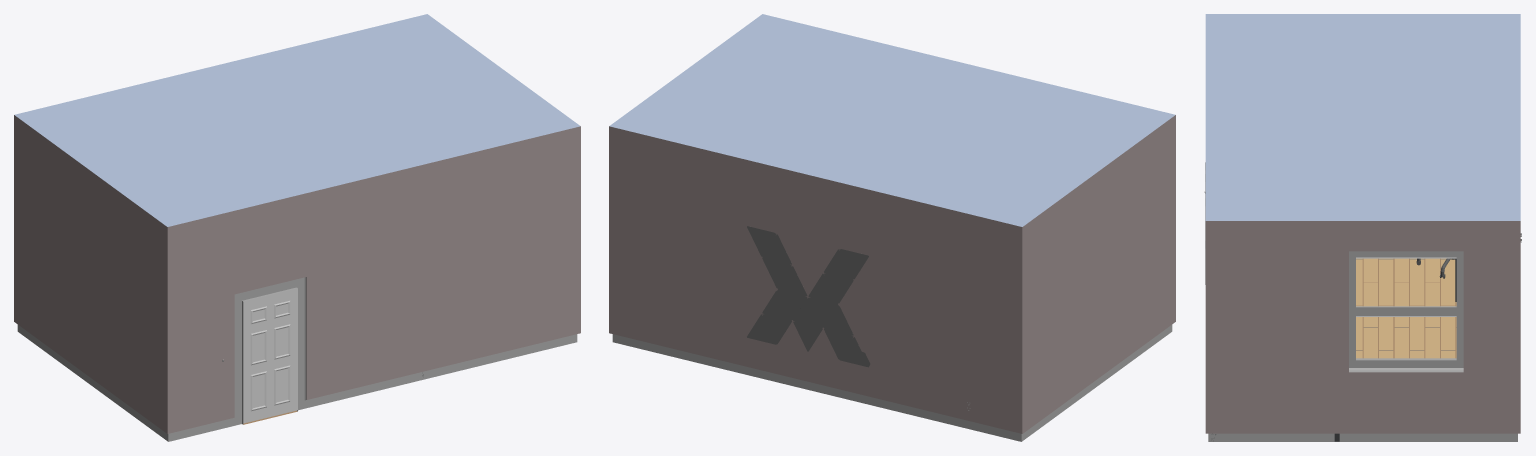
The model's file is low_poly_gaming_bedroom.glb.
3 views of the same model, side by side, from view 1: azimuth 30°, elevation 25°; view 2: azimuth 150°, elevation 25°; view 3: azimuth 270°, elevation 25° (orthographic). The views are drawn at different scales.
Visible parts, largest first — view 1: Bedroom_0; view 2: Bedroom_0, NanoLights_13; view 3: Bedroom_0.
Part boxes in pixels (x1,y1,x2,y2): Bedroom_0: [14, 14, 580, 441]; Bedroom_0: [609, 14, 1175, 441]; NanoLights_13: [747, 226, 970, 410]; Bedroom_0: [1204, 14, 1520, 441].
Bounding box in the file's own units: 6.4 × 3.2 × 4.14.
